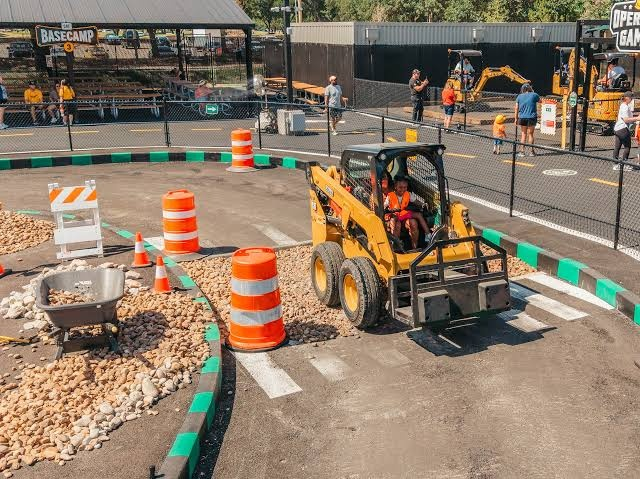machinery: (302, 139, 532, 329), (543, 34, 634, 131), (432, 40, 538, 112)
no_hardhat: (392, 175, 414, 191), (61, 77, 75, 90), (521, 84, 535, 96), (442, 76, 454, 89), (407, 69, 423, 78), (617, 93, 632, 102), (327, 74, 339, 85), (458, 59, 474, 67), (492, 114, 503, 124), (25, 80, 37, 89), (196, 79, 209, 87)
no_safety_vest: (516, 93, 542, 121), (613, 102, 632, 133), (323, 85, 345, 111), (17, 89, 46, 107), (407, 78, 424, 102), (441, 84, 455, 102), (59, 84, 71, 104), (492, 123, 502, 140)
person: (378, 175, 433, 256), (512, 81, 542, 162), (610, 90, 636, 174), (402, 66, 436, 129), (322, 72, 348, 138), (189, 75, 218, 120), (19, 79, 45, 125), (56, 77, 78, 128), (439, 74, 458, 133), (597, 54, 624, 93), (488, 111, 508, 159), (454, 56, 475, 94), (46, 85, 59, 124)
safety_cone: (223, 241, 292, 361), (153, 188, 209, 256), (219, 125, 262, 179), (122, 227, 153, 271), (151, 255, 173, 302)
safety_vest: (386, 188, 418, 223)
